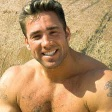male: (19, 1, 74, 70)
